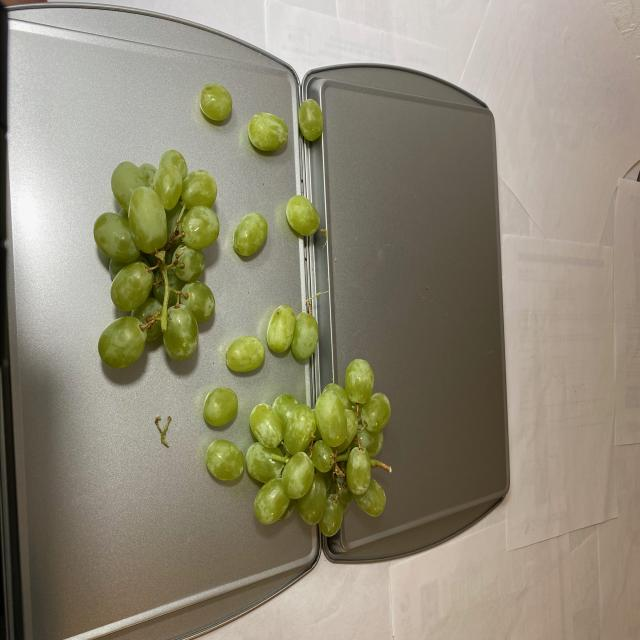grapes: (98, 83, 390, 537)
